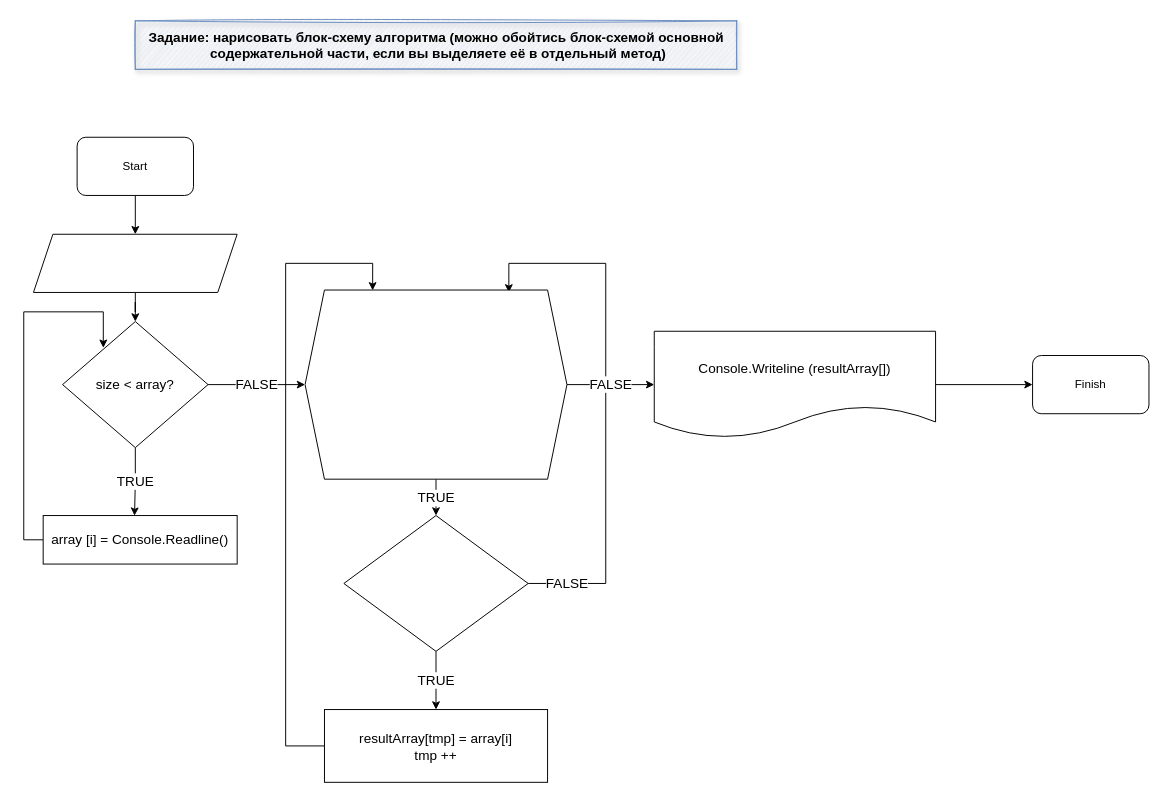
The diagram is 1166 pixels wide and 799 high, and some of its shapes have lost their labels. Here are the shapes that lost their labels. From the top down, the centre of each, then its label:
the point at 134,262: array [size] resultArray [] tmp = 0
the point at 435,384: GiveWorldsMore3Char { for (int i = 0; i < array.Lenght; i++ return resultArray }
the point at 435,583: array[i].Lenght <=3?
